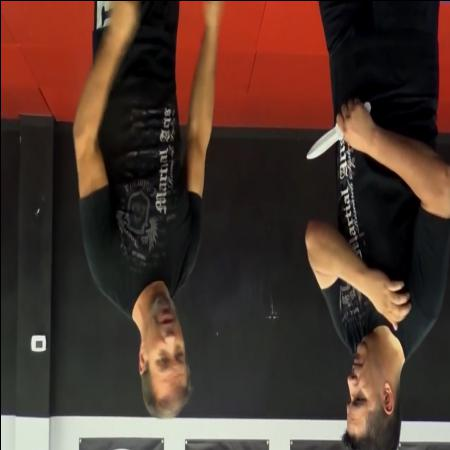long weapon: (303, 95, 373, 164)
